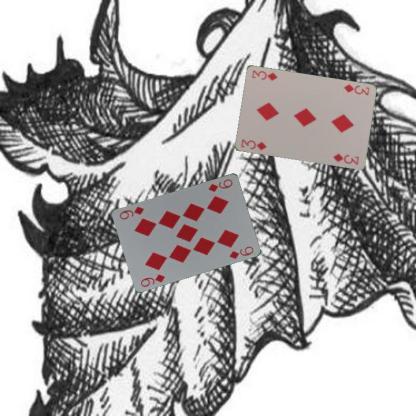3d: (238, 136, 268, 152), (341, 82, 370, 97)
9d: (138, 271, 167, 288), (206, 176, 234, 193)
